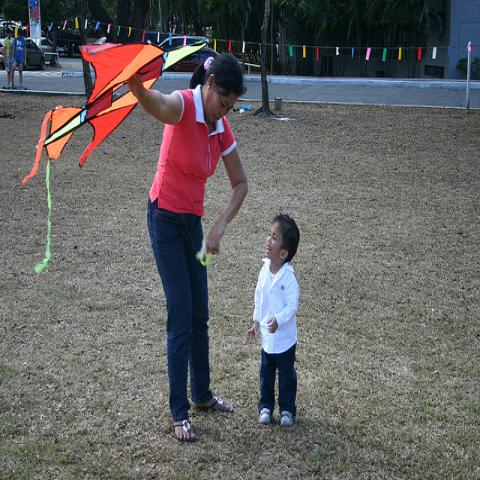car: (164, 46, 221, 72), (158, 36, 207, 52), (25, 40, 45, 69), (34, 37, 54, 63)
